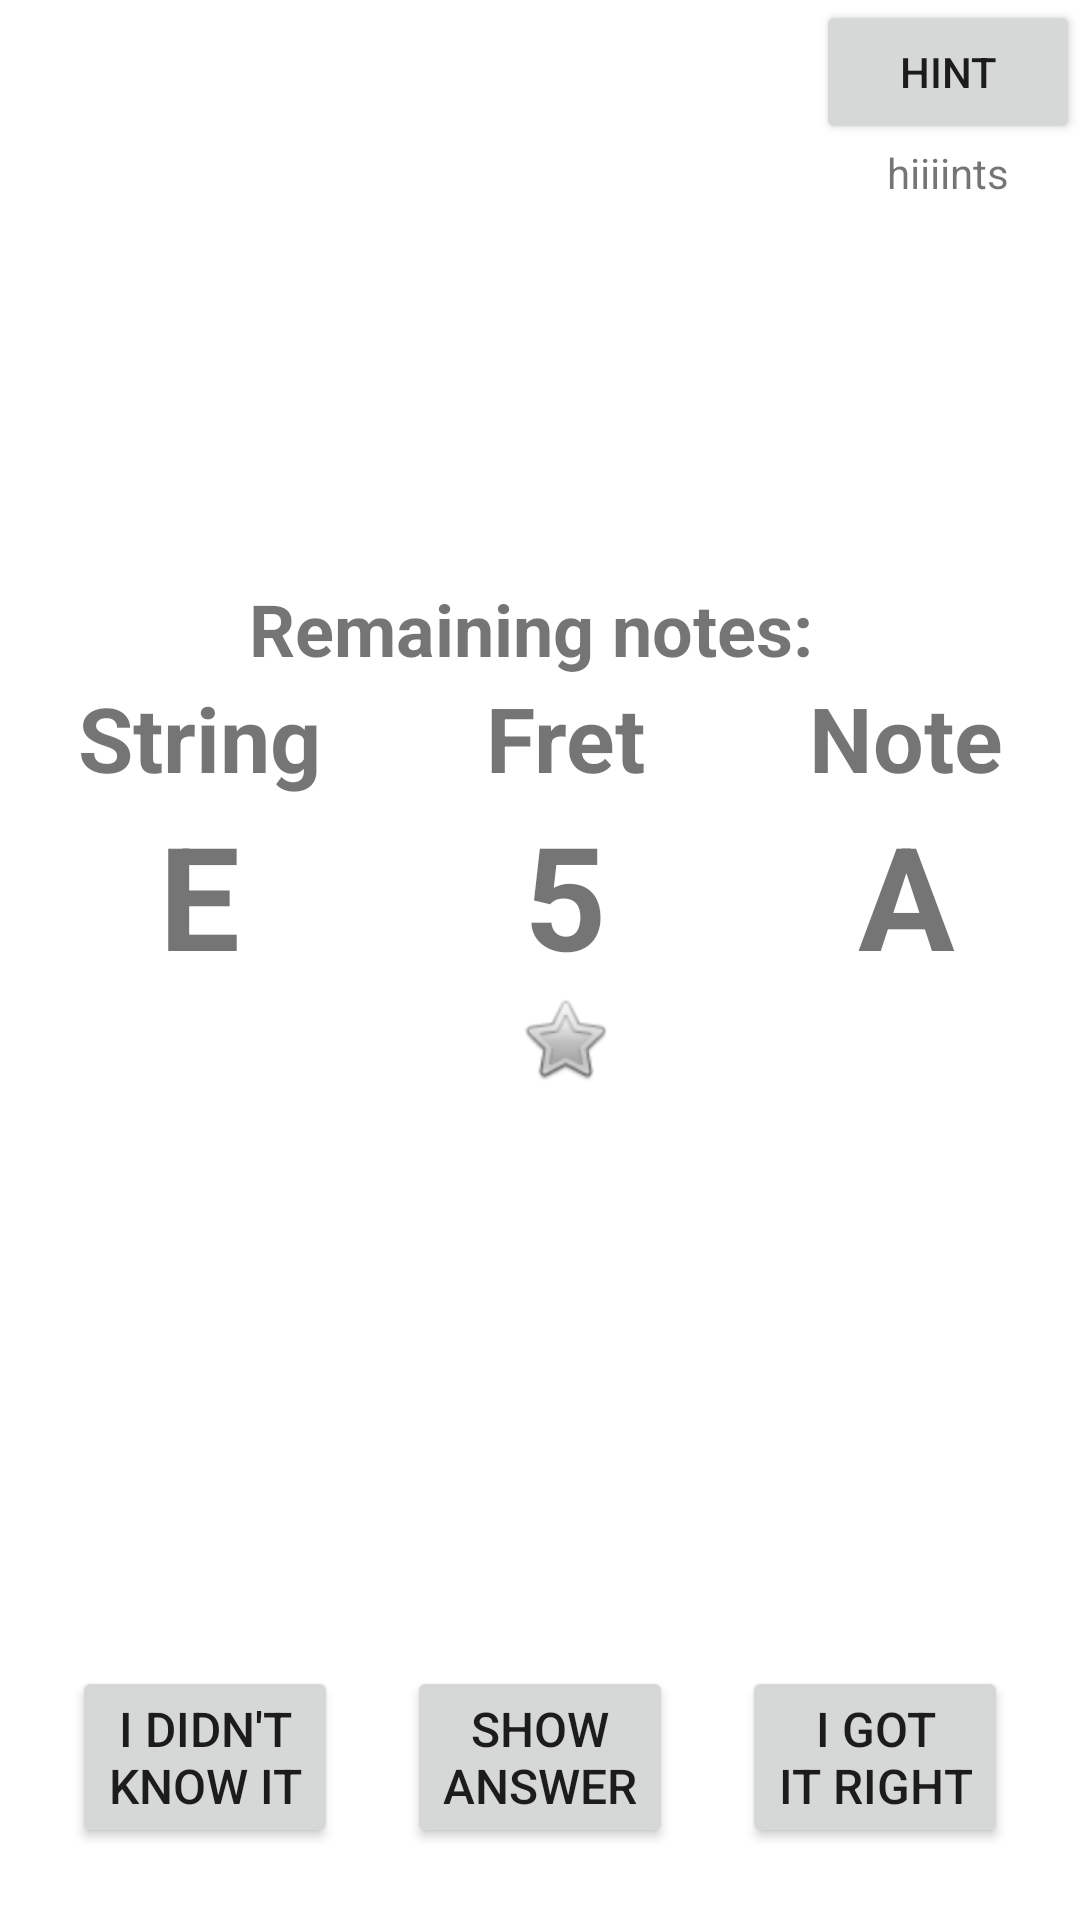

Named icons in this screenshot (1080×1920) and their bounding boxes, bbox=(x1, y1, x2, y2):
star: bbox=(526, 1001, 606, 1079)
